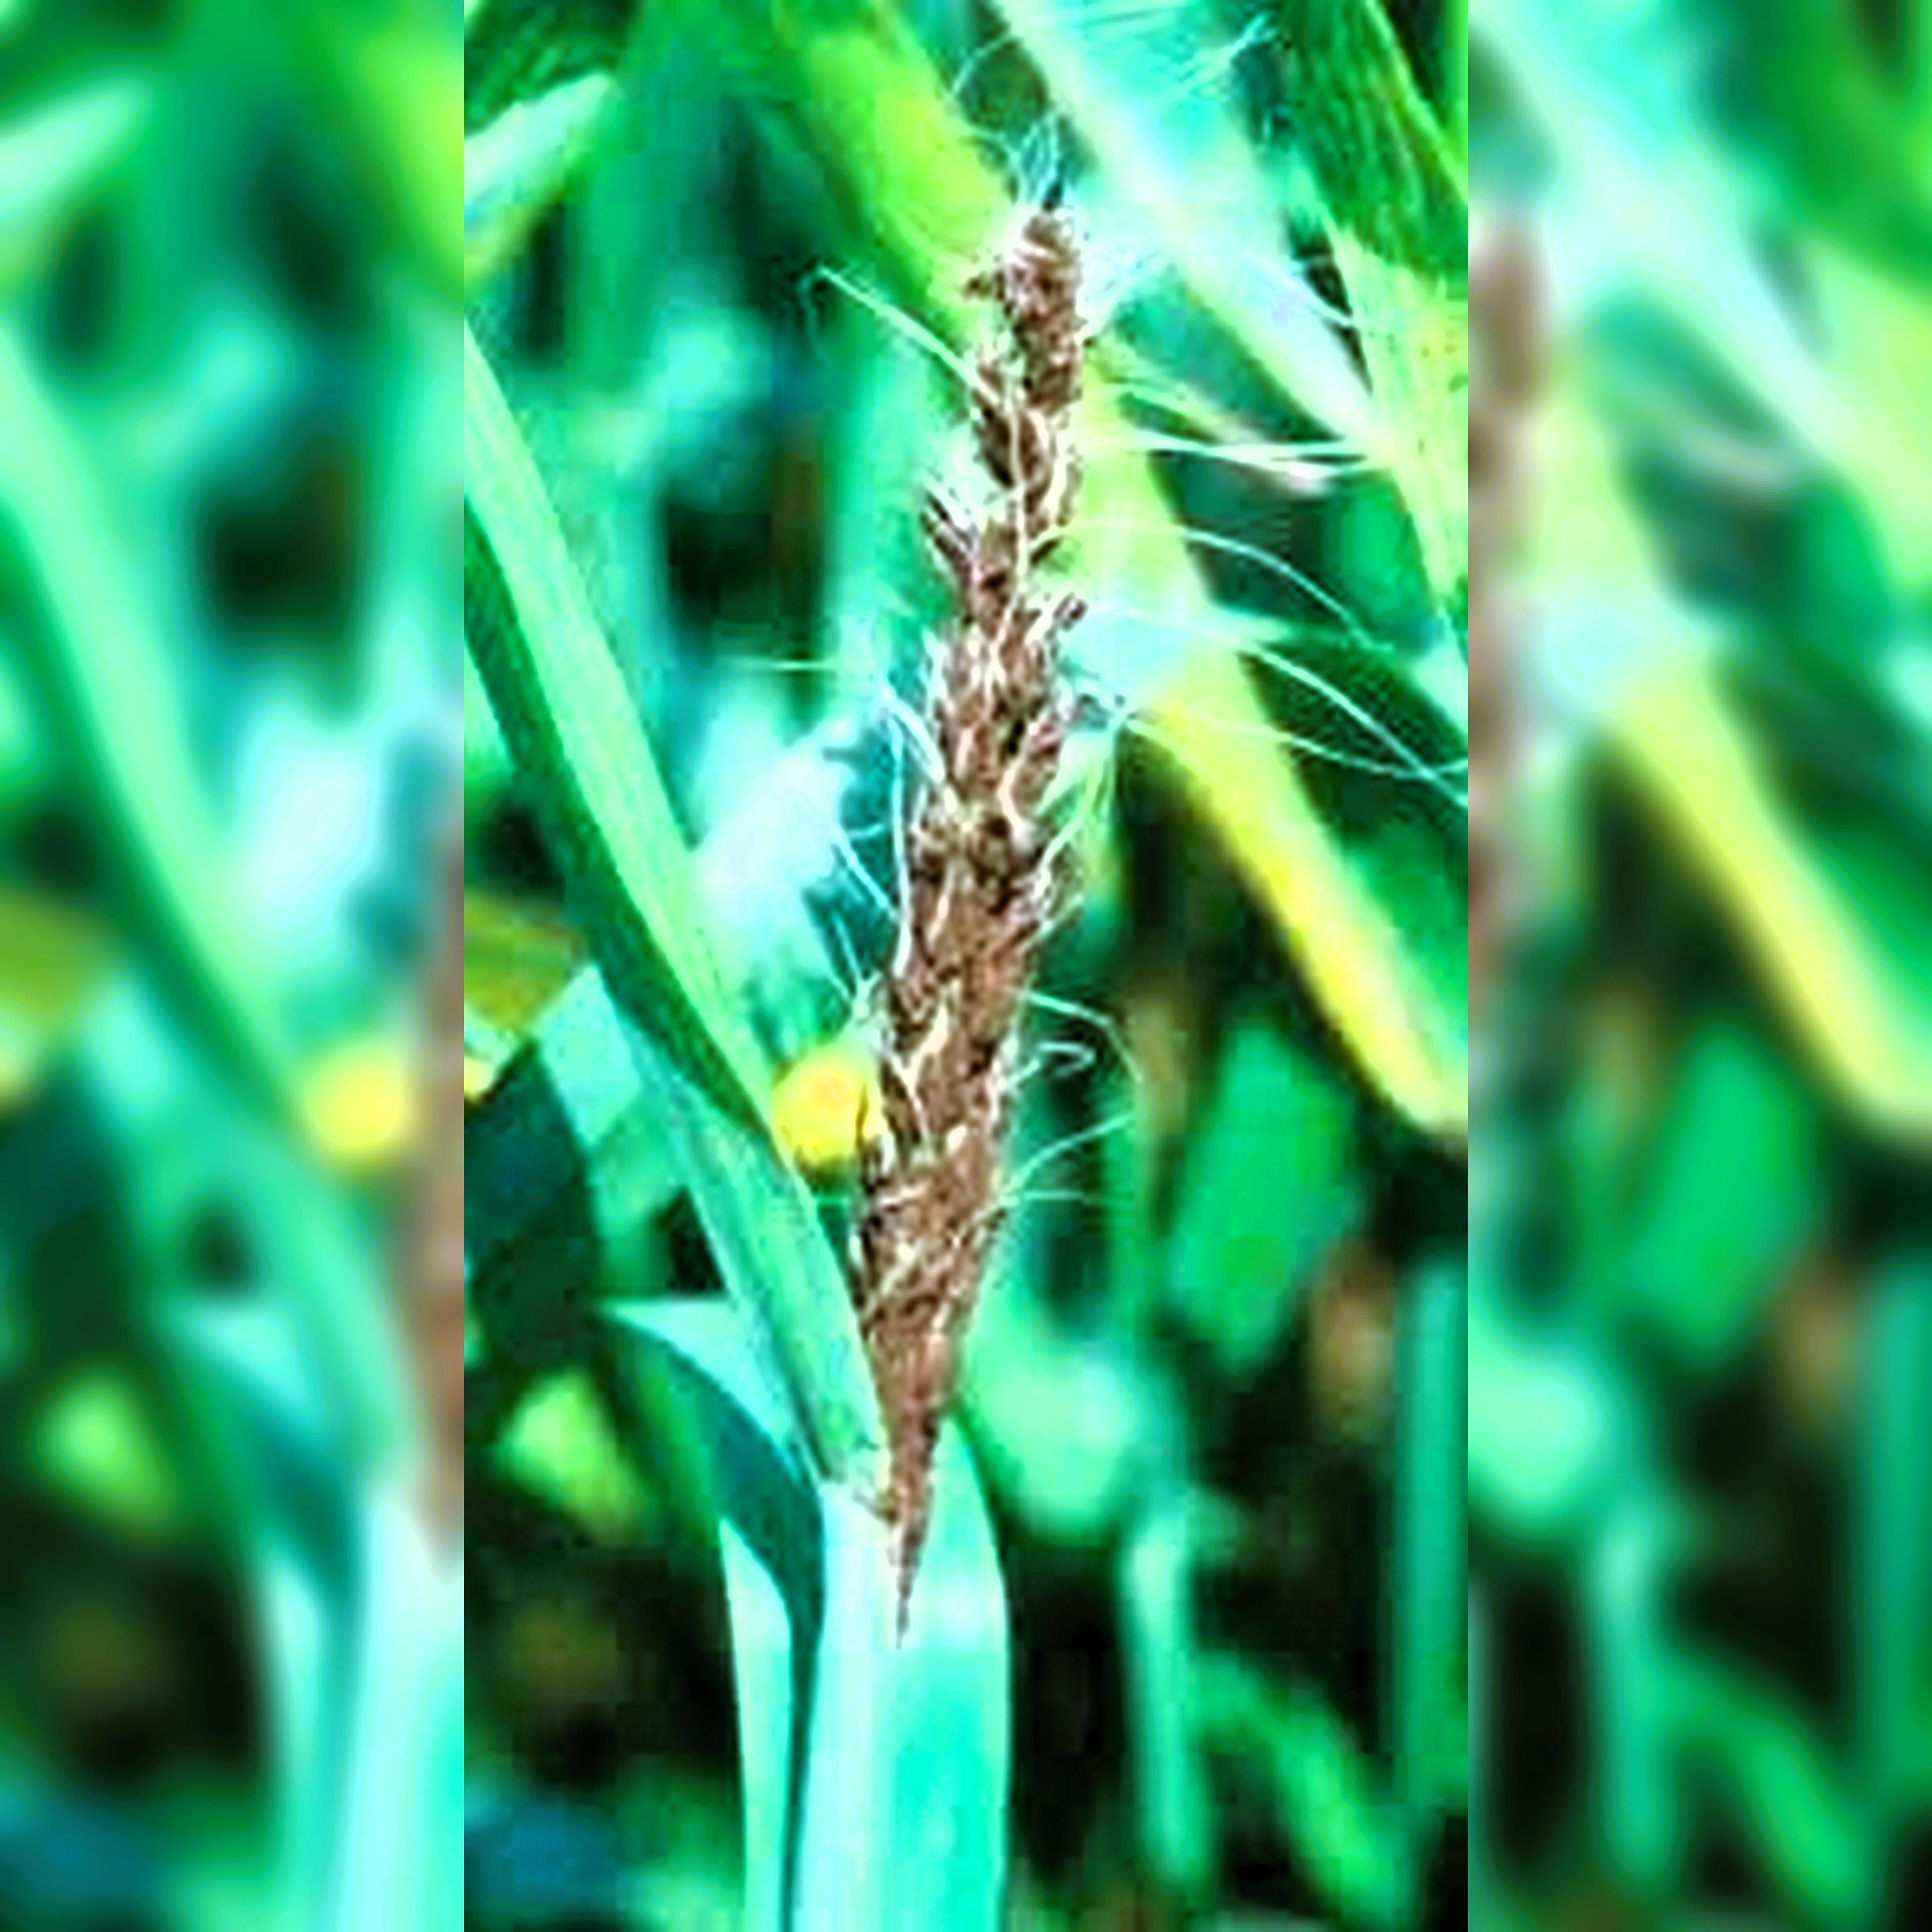Wheat Loose Smut: (819, 156, 1251, 1366)
